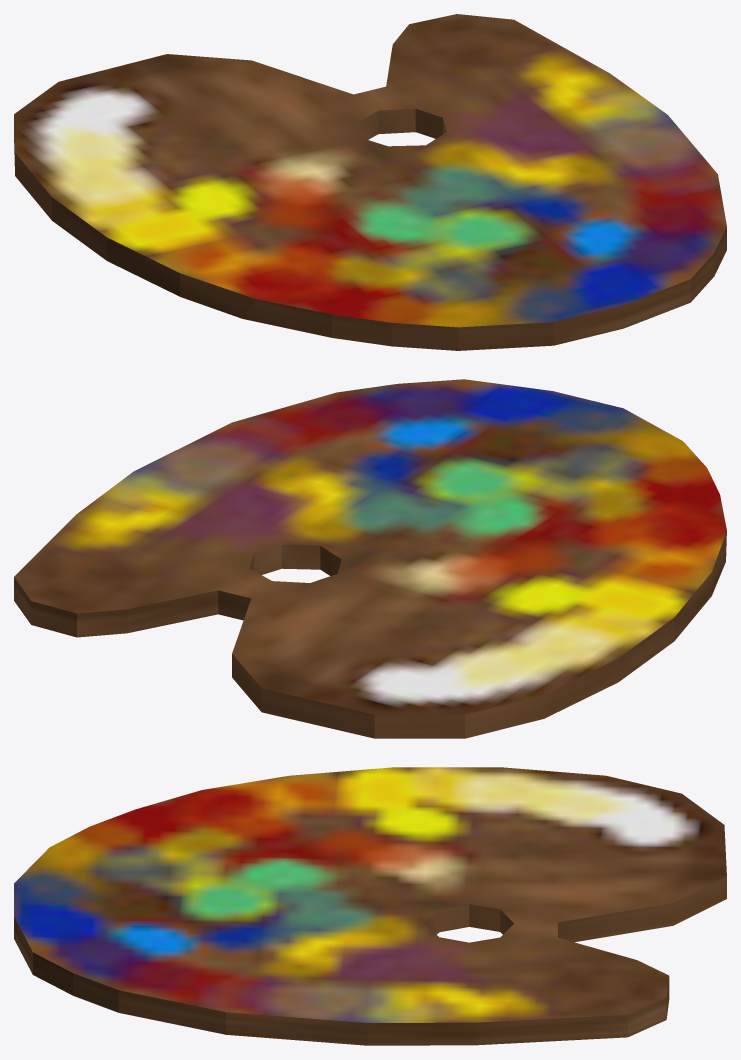
File: s0_Prop_Palette_Art_01.glb
3 views of the same model, one above another, from view 1: azimuth 30°, elevation 25°; view 2: azimuth 150°, elevation 25°; view 3: azimuth 270°, elevation 25° (orthographic). The views are drawn at different scales.
Visible parts, largest first — view 1: node_Prop_Palette_Art; view 2: node_Prop_Palette_Art; view 3: node_Prop_Palette_Art.
Boxes of the visible parts, <box> form: node_Prop_Palette_Art: <box>14,14,726,350</box>; node_Prop_Palette_Art: <box>14,379,726,738</box>; node_Prop_Palette_Art: <box>14,767,726,1045</box>.
Bounding box in the file's own units: 0.2423 × 0.01 × 0.2854.
1 material, 1 textured.
